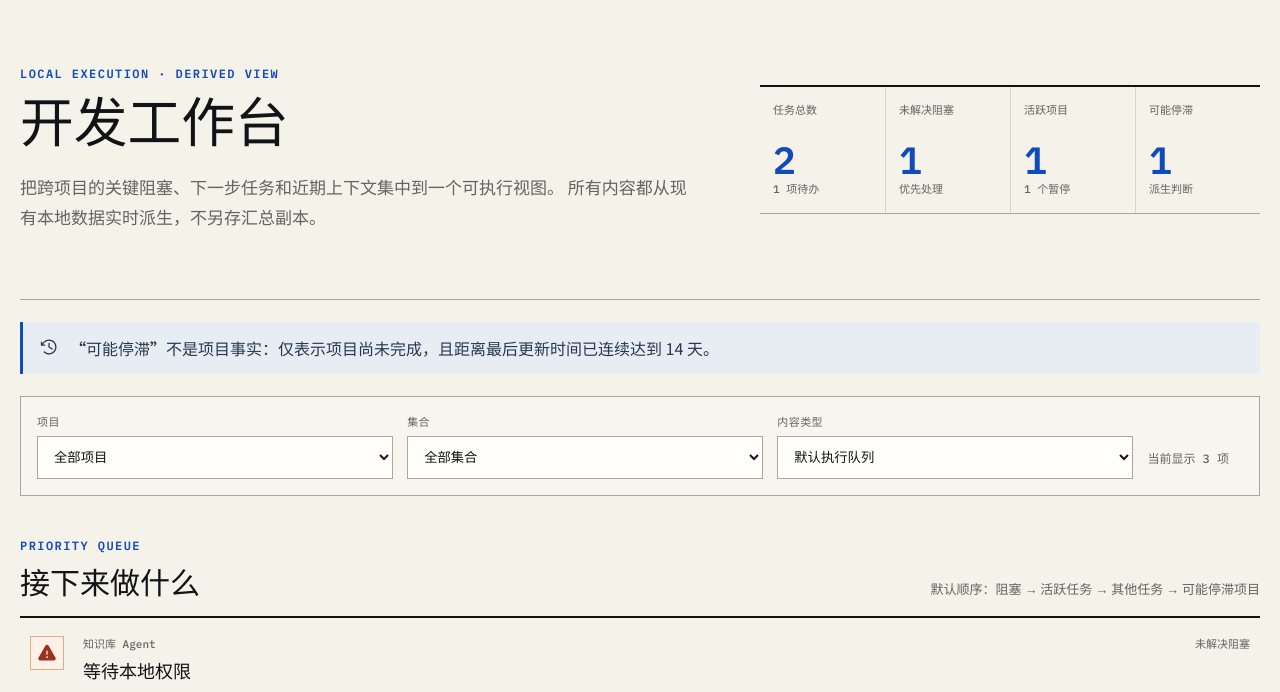
Test: WorkbenchPage › 按集合缩小任务、阻塞与停滞项目范围并播报数量
The width and height of the screenshot is (1280, 692).
Select "稍后处理" in the dropdown named "按集合筛选" at (585, 458), box [407, 436, 763, 479]
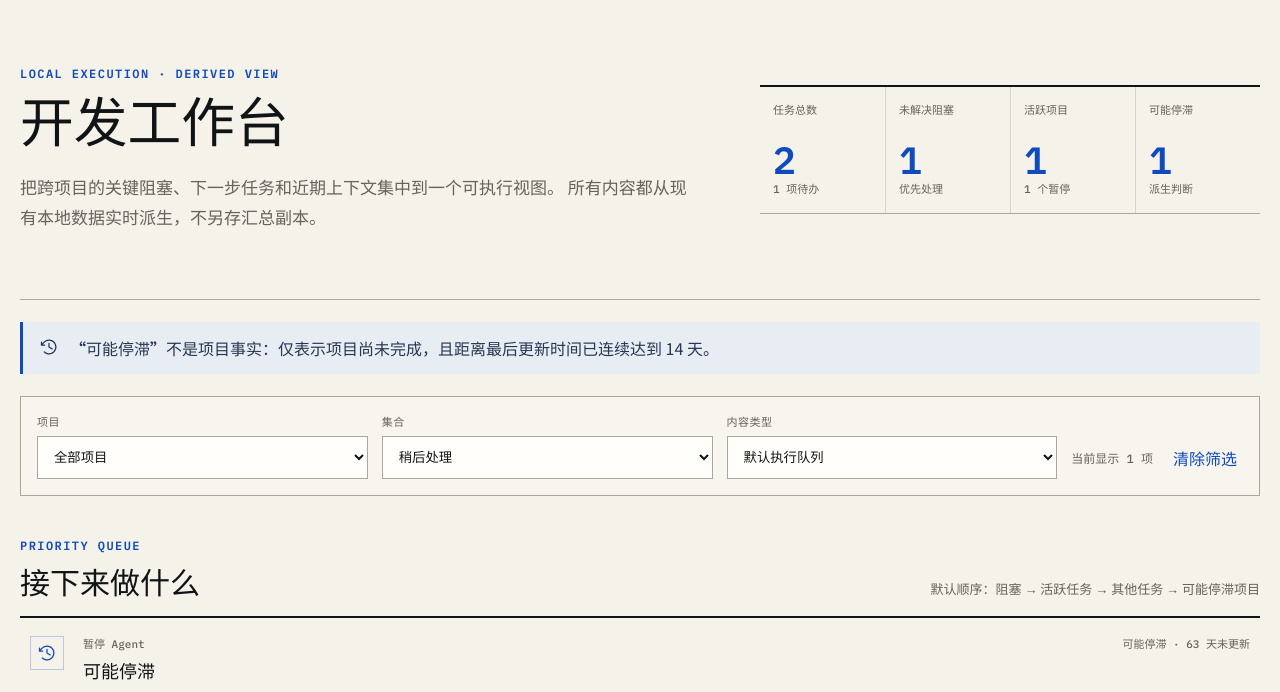
Expected: the heading "可能停滞" is shown, [83, 662, 155, 682]
Result: the heading "等待本地权限" is gone
Result: the text "当前显示 1 项" is shown at [1071, 451, 1153, 466]
